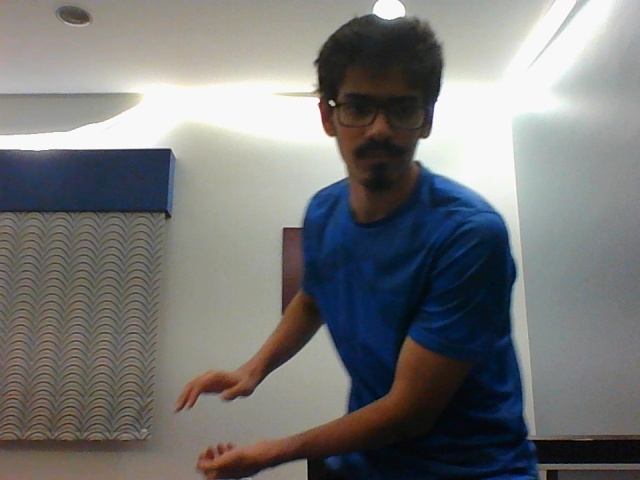charge: (175, 359, 283, 477)
